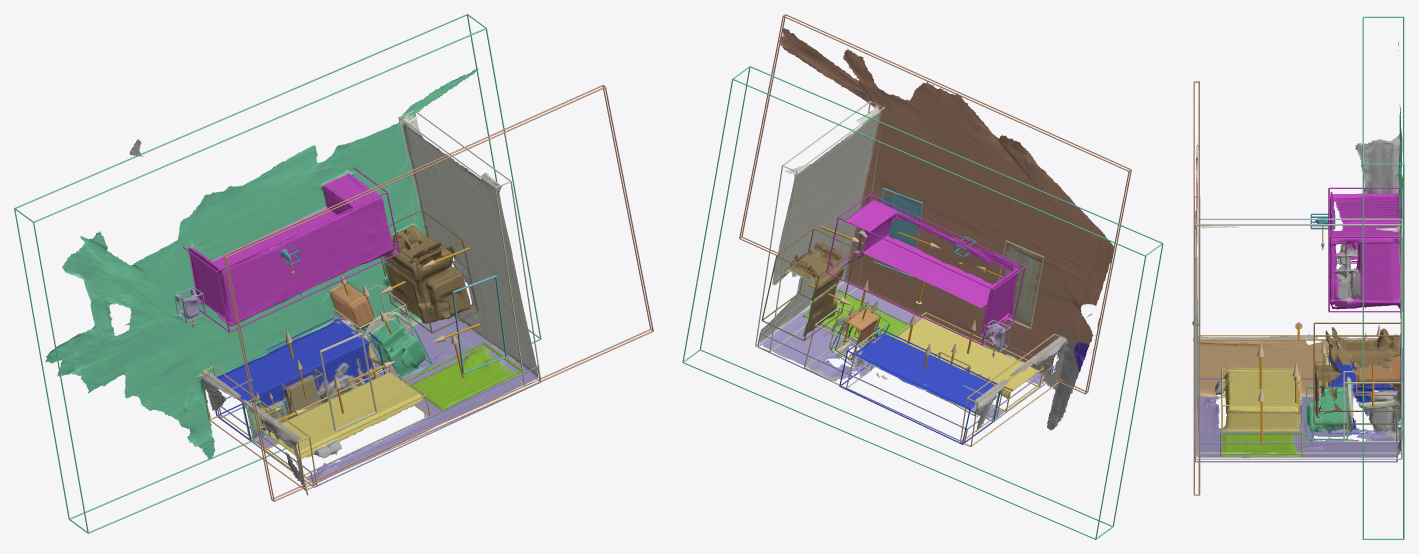
The model's file is scene_00024_00-obb.compressed.gltf.
The picture shows the model from 3 angles, left to right: view 1: azimuth 30°, elevation 25°; view 2: azimuth 150°, elevation 25°; view 3: azimuth 270°, elevation 25°; orthographic projection. The views are drawn at different scales.
Bounding box in the file's own units: 8.84 × 6.37 × 2.8.
